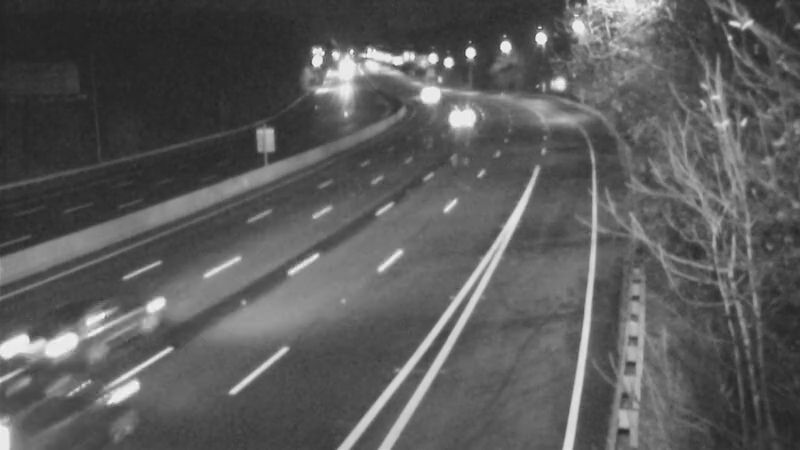vehicle: (10, 284, 120, 394), (398, 68, 448, 118), (426, 96, 476, 146)
